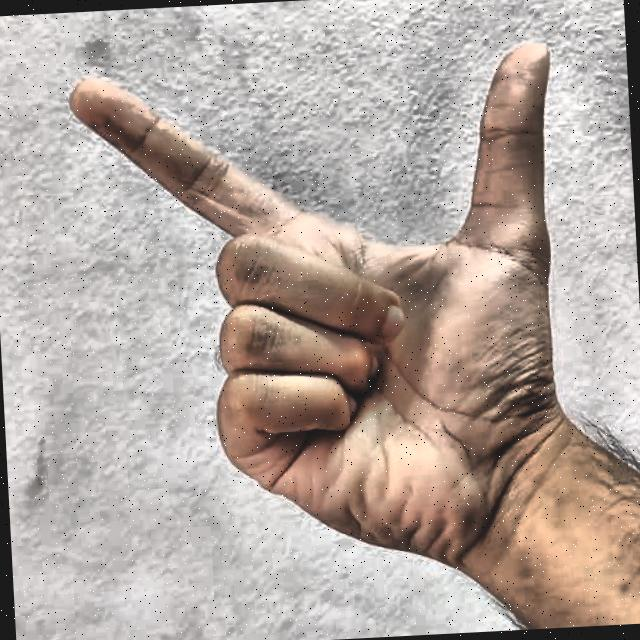ChandraBindu: (52, 0, 605, 607)
